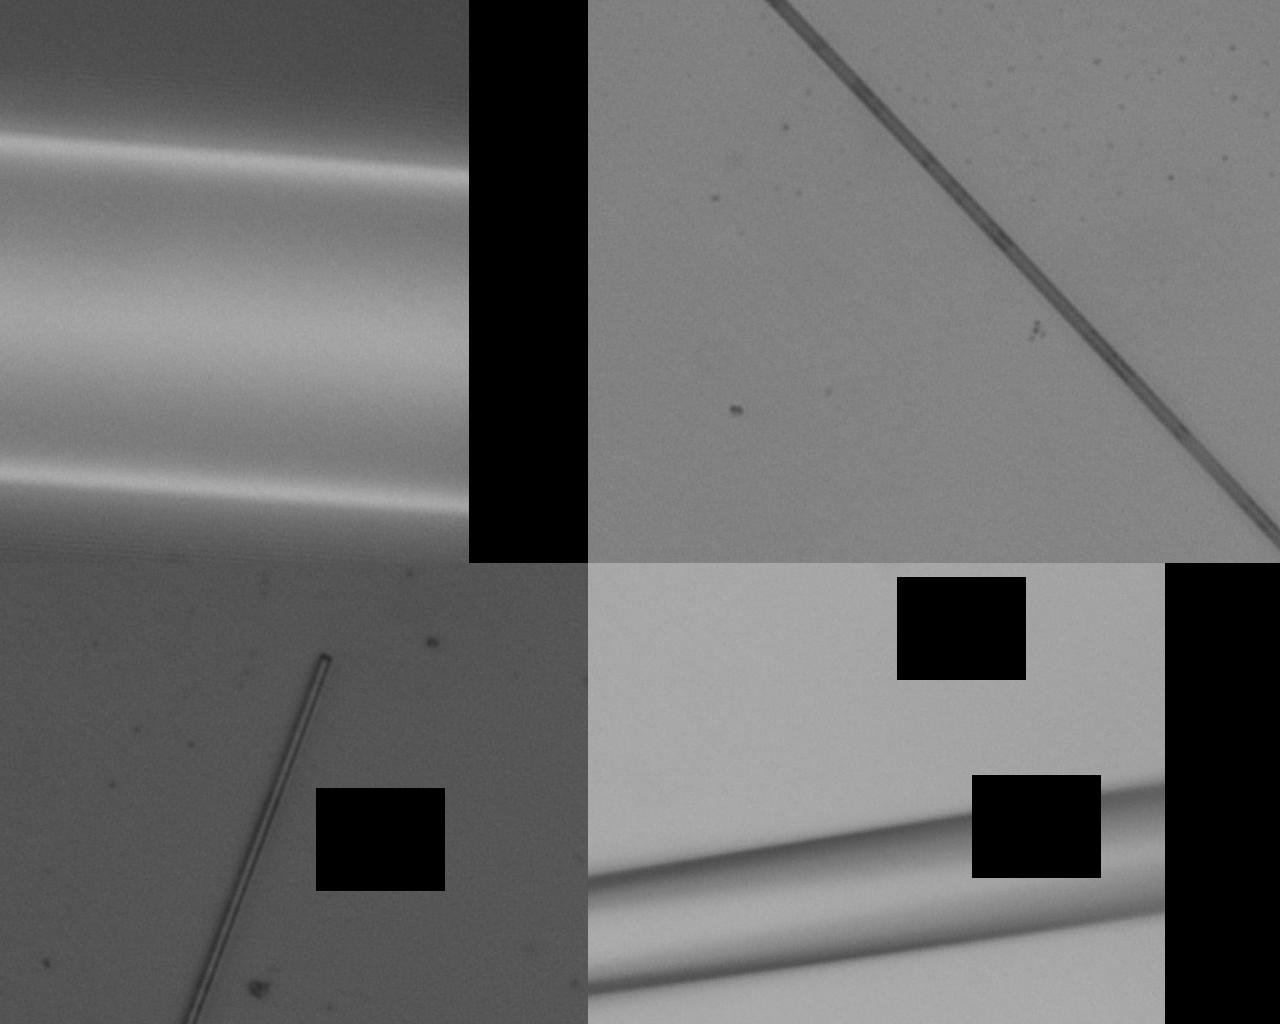fiber: (127, 438, 1151, 734)
